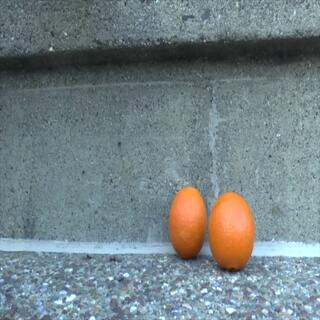orange: (208, 190, 255, 272), (158, 183, 204, 263)
